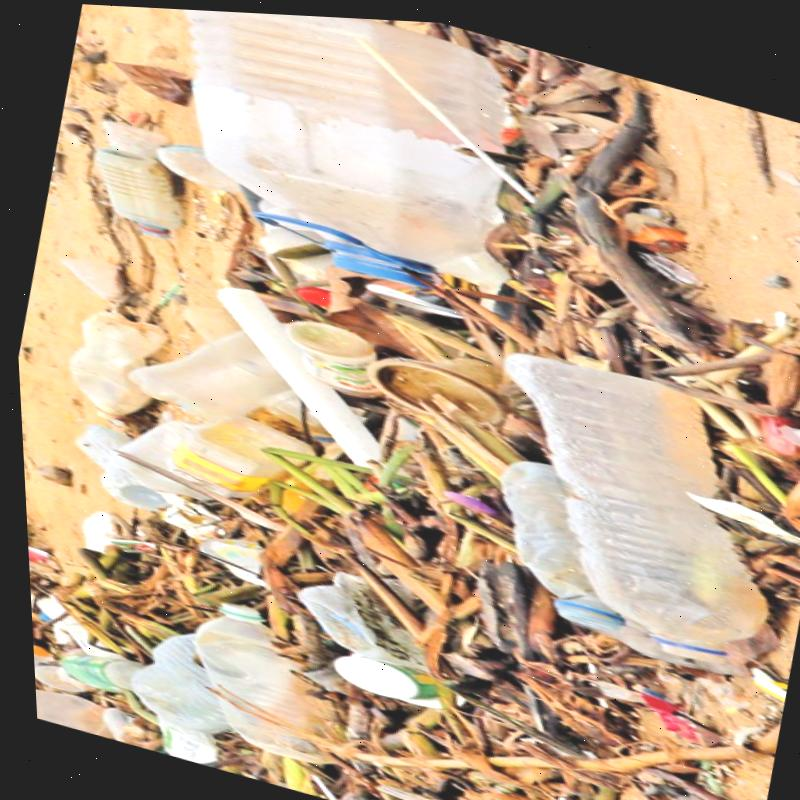botella: (450, 330, 800, 680), (475, 446, 643, 629), (170, 590, 324, 761), (131, 304, 299, 436), (156, 398, 312, 514), (41, 298, 163, 425), (109, 617, 235, 738), (86, 138, 187, 240), (37, 635, 130, 697), (87, 107, 173, 164)
